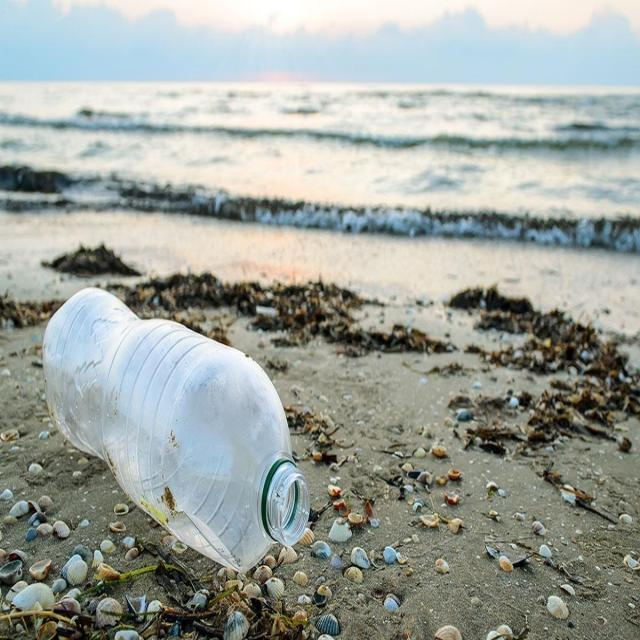bottle: (41, 284, 313, 578)
